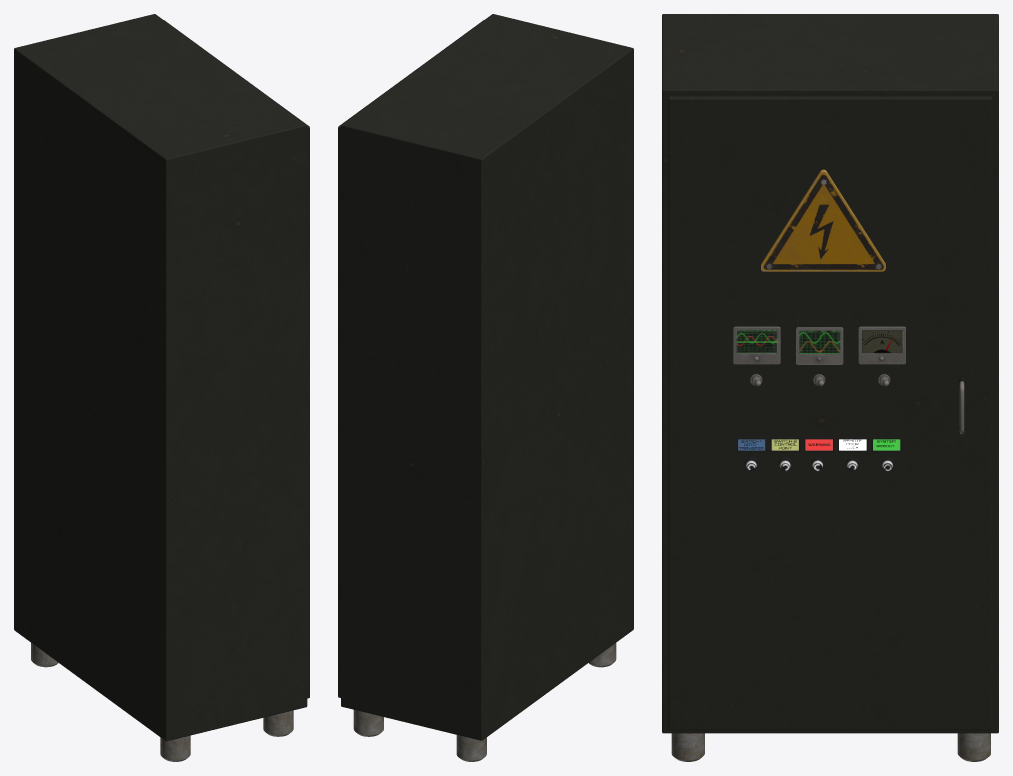
File: SM_Generator_2.fbx
3 renders of one model, left to right at view 1: azimuth 30°, elevation 25°; view 2: azimuth 150°, elevation 25°; view 3: azimuth 270°, elevation 25°, orthographic. The views are drawn at different scales.
Visible parts, largest first — view 1: SM_Generator_2_LOD0; view 2: SM_Generator_2_LOD0; view 3: SM_Generator_2_LOD0.
Boxes of the visible parts, left/top/right/bottom form: SM_Generator_2_LOD0: left=14, top=14, right=309, bottom=761; SM_Generator_2_LOD0: left=338, top=14, right=633, bottom=761; SM_Generator_2_LOD0: left=662, top=14, right=998, bottom=761.
Size of the model in its own units: 57.81 by 94.37 by 209.
Materials: 1 (1 with a texture image).
